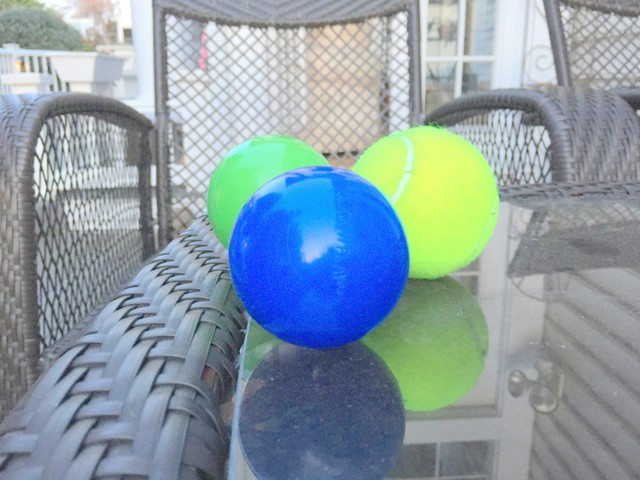Ball: (345, 125, 505, 281)
